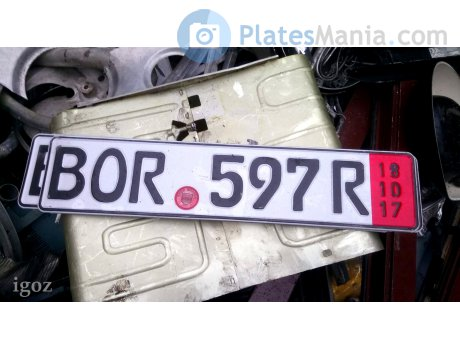License Plates: (51, 149, 362, 212)
